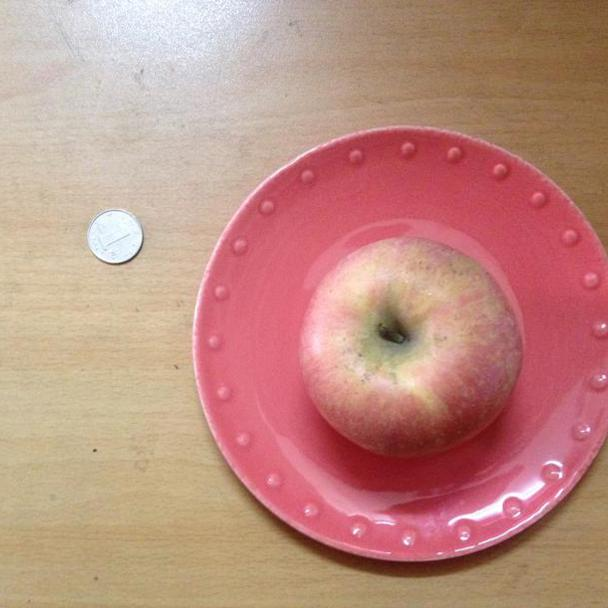apple: (295, 237, 529, 462)
